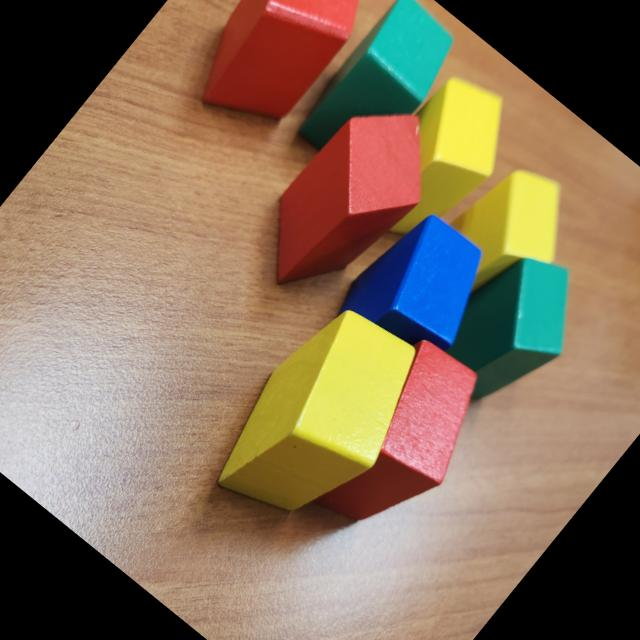blue: (334, 197, 512, 376)
green: (416, 228, 606, 424), (286, 0, 471, 187)
red: (234, 79, 462, 324), (296, 332, 510, 560), (169, 0, 394, 148)
yellow: (194, 284, 452, 554), (344, 61, 534, 262), (431, 148, 594, 316)
